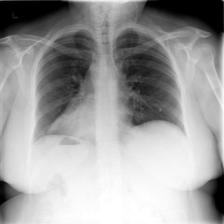normal: (27, 21, 189, 145)
